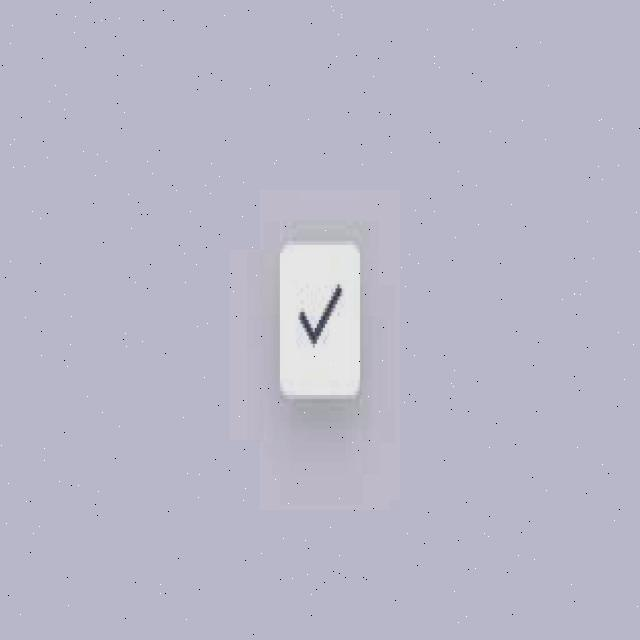checkbox: (281, 244, 361, 397)
